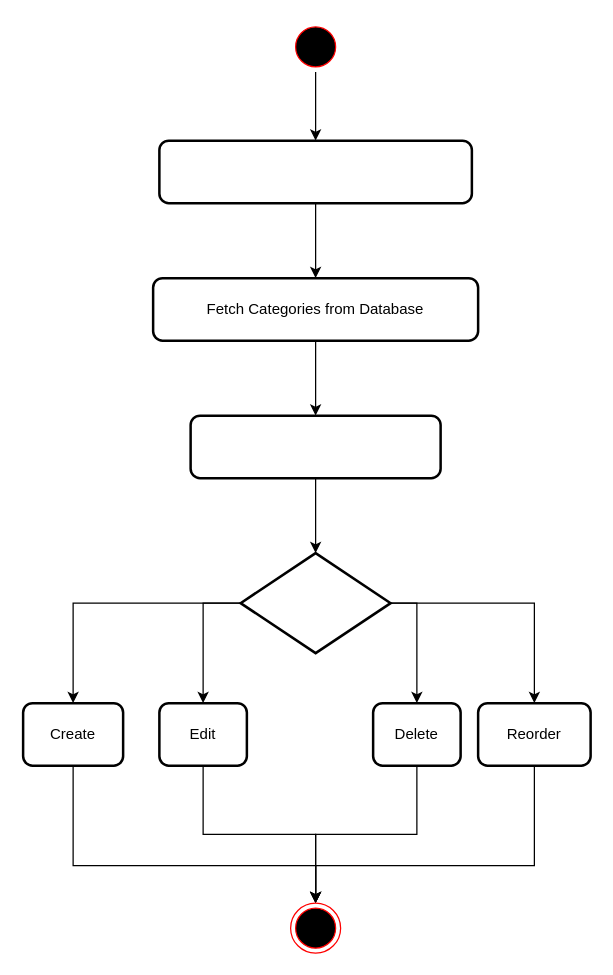
This 613x975 diagram has some shape labels left out. Each missing label, with the centre of its shape:
Access Category Management: the point at 315,171
Action?: the point at 315,602
Display Categories Table: the point at 315,446
